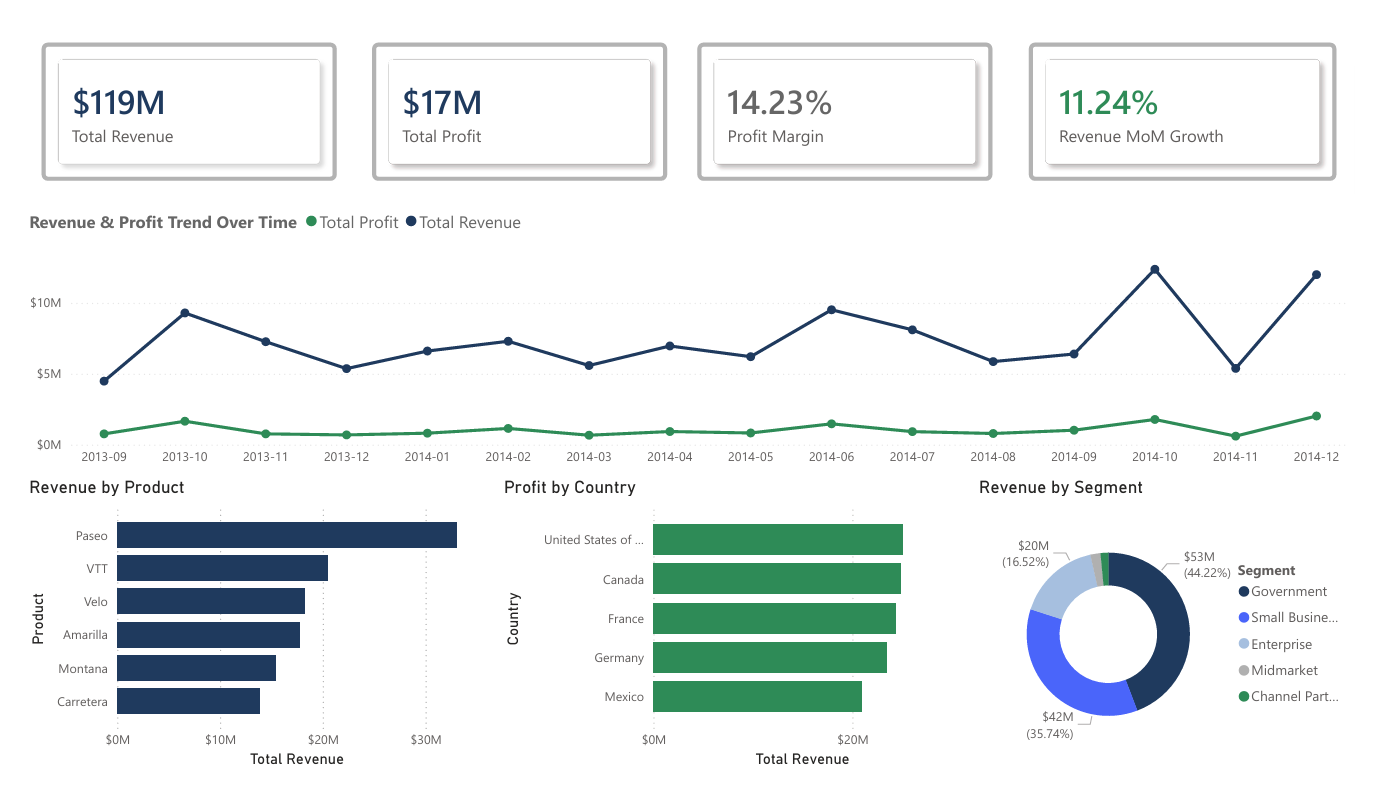

The page's visual inventory and layout, read from the dashboard file:
{"tool":"powerbi","page":{"name":"Page 1","canvas":[1280,720],"ordinal":0},"visuals":[{"type":"cardVisual","fields":{"Data":["Fact_Financials.Total Revenue"]},"box":[0,0,318.4,167.4],"z":0},{"type":"cardVisual","fields":{"Data":["Fact_Financials.Profit Margin"]},"box":[631.2,0,318.4,167.4],"z":1000},{"type":"cardVisual","fields":{"Data":["Fact_Financials.Revenue MoM Growth"]},"box":[949.6,0,330.7,167.4],"z":2000},{"type":"cardVisual","fields":{"Data":["Fact_Financials.Total Profit"]},"box":[318.4,0,318.4,167.4],"z":3000},{"type":"lineChart","fields":{"Y":["Fact_Financials.Total Profit","Fact_Financials.Total Revenue"],"Category":["Dim_Date.Year-Month"]},"box":[0,167.4,1280.3,266.2],"z":4000},{"type":"clusteredBarChart","title":"Revenue by Product","fields":{"Category":["Dim_Product.Product"],"Y":["Fact_Financials.Total Revenue"]},"box":[0,433.6,456.9,286.8],"z":5000},{"type":"clusteredBarChart","title":"Profit by Country","fields":{"Category":["Dim_Country.Country"],"Y":["Fact_Financials.Total Revenue"]},"box":[456.9,433.6,456.9,286.8],"z":6000},{"type":"donutChart","title":"Revenue by Segment","fields":{"Category":["Dim_Segment.Segment"],"Y":["Fact_Financials.Total Revenue"]},"box":[914,434,366,286],"z":6001}]}

Visuals, with their boxes in screenshot pixels (x1, y1, x2, y2), scaled from the page's 1280x720 canvas onto the 1380x798 screenshot:
cardVisual - Fact_Financials.Total Revenue: bbox=(0, 0, 343, 186)
cardVisual - Fact_Financials.Profit Margin: bbox=(681, 0, 1024, 186)
cardVisual - Fact_Financials.Revenue MoM Growth: bbox=(1024, 0, 1379, 186)
cardVisual - Fact_Financials.Total Profit: bbox=(343, 0, 687, 186)
lineChart - Fact_Financials.Total Profit x Fact_Financials.Total Revenue: bbox=(0, 186, 1379, 481)
"Revenue by Product" clusteredBarChart: bbox=(0, 481, 493, 797)
"Profit by Country" clusteredBarChart: bbox=(493, 481, 985, 797)
"Revenue by Segment" donutChart: bbox=(985, 481, 1379, 797)
